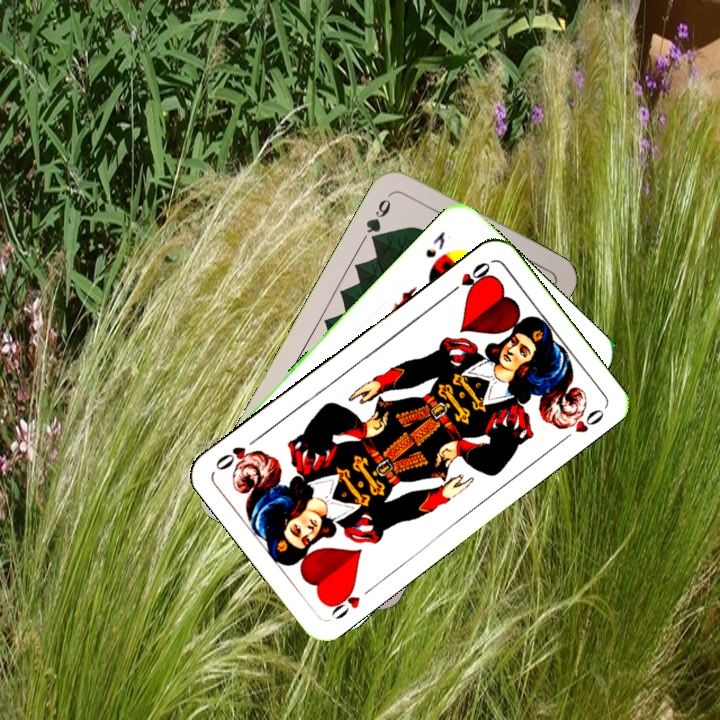G9: (361, 188, 396, 246)
HO: (324, 581, 377, 622), (443, 258, 493, 299)
SK: (421, 227, 448, 261)
